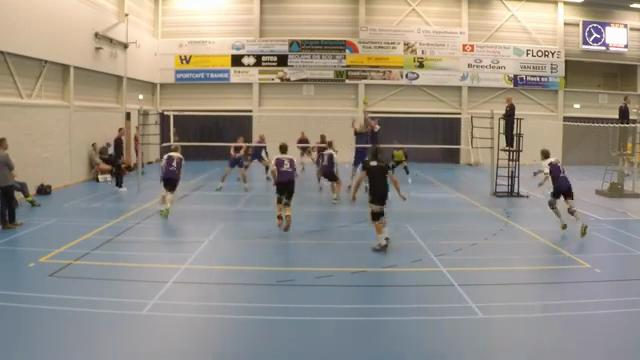alzata: (361, 107, 384, 154)
